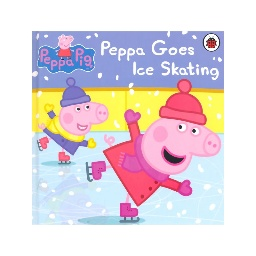Peppa: (88, 79, 221, 221)
